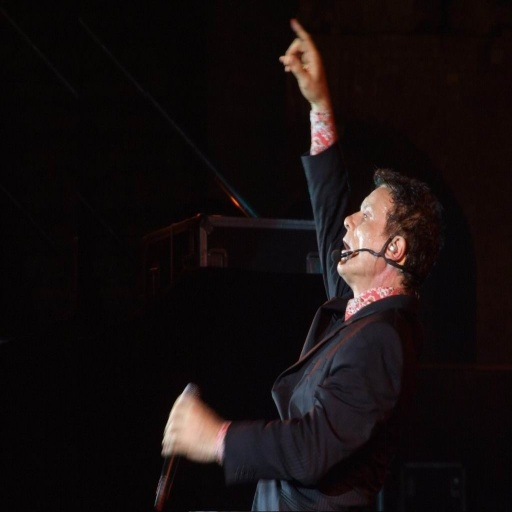hand: (150, 382, 248, 483), (277, 15, 329, 109)
